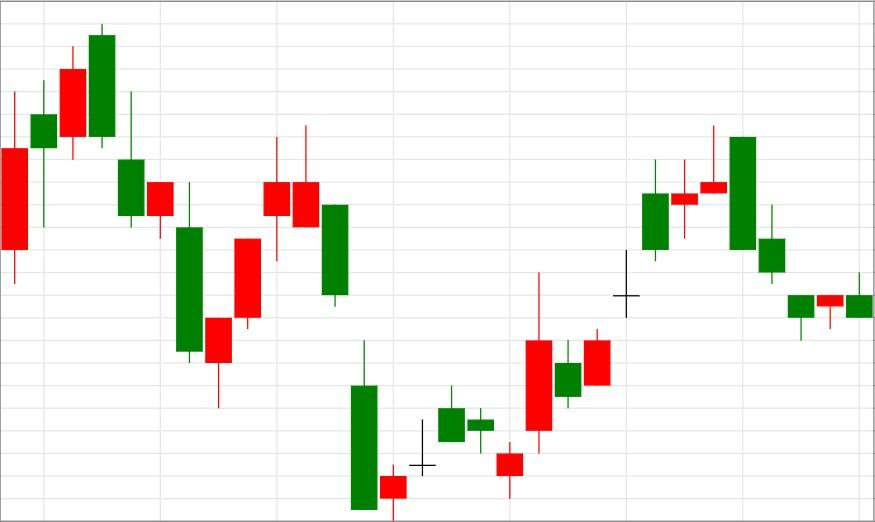three_white_soldiers_rise: (88, 22, 292, 408)
